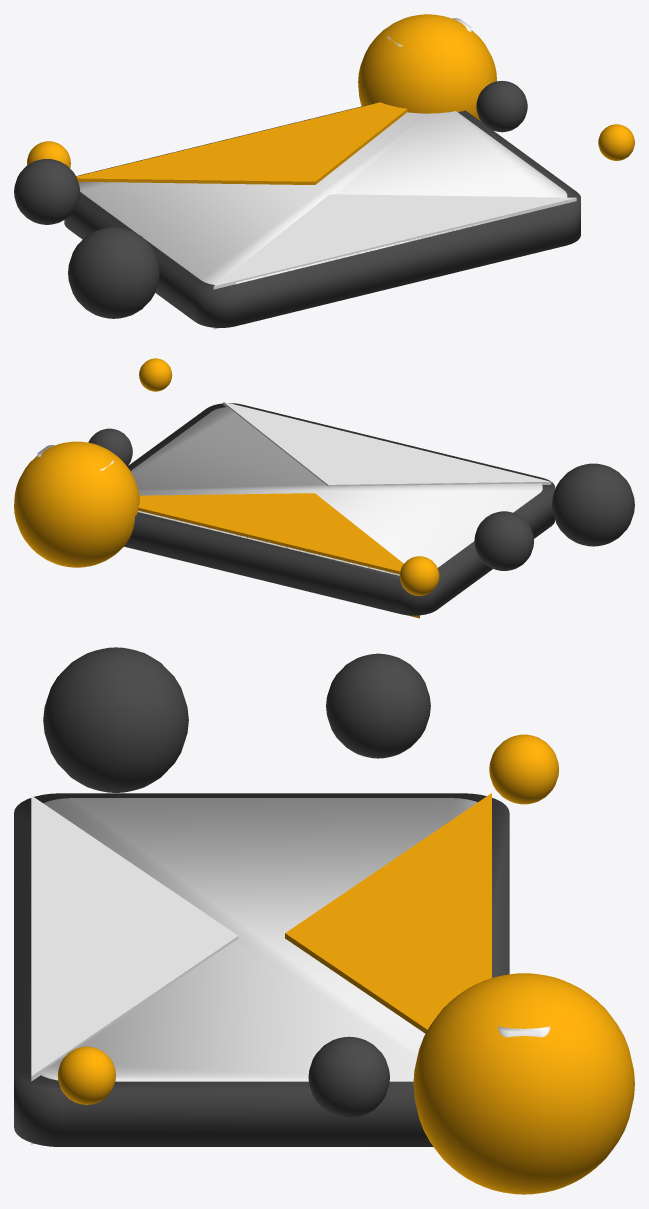
Rendered from email_99.glb.
3 renders of one model, top to bottom at view 1: azimuth 30°, elevation 25°; view 2: azimuth 150°, elevation 25°; view 3: azimuth 270°, elevation 25°, orthographic. The views are drawn at different scales.
Visible parts, largest first — view 1: EnvFace, EnvBack, EnvFold, EnvFlap, EnvBadge, ESph_2, ESph_1, ESph_5, ESph_4, ESph_3; view 2: EnvFace, EnvBack, EnvBadge, EnvFold, EnvFlap, ESph_2, ESph_1, ESph_3, ESph_5, ESph_4; view 3: EnvFace, EnvBadge, EnvBack, EnvFold, EnvFlap, ESph_2, ESph_1, ESph_5, ESph_3, ESph_4.
Part boxes in pixels (x1,y1,x2,y2): EnvFace: (78, 111, 567, 284); EnvBack: (64, 103, 580, 327); EnvFold: (213, 194, 576, 329); EnvFlap: (76, 102, 407, 184); EnvBadge: (358, 14, 496, 121); ESph_2: (68, 227, 159, 318); ESph_1: (14, 159, 79, 224); ESph_5: (476, 81, 527, 132); ESph_4: (598, 124, 634, 160); ESph_3: (27, 141, 70, 167); EnvFace: (130, 407, 542, 575); EnvBack: (124, 403, 555, 615); EnvBadge: (14, 441, 139, 567); EnvFold: (223, 402, 551, 486); EnvFlap: (138, 493, 419, 618); ESph_2: (552, 463, 634, 546); ESph_1: (474, 511, 533, 570); ESph_3: (399, 556, 439, 595); ESph_5: (88, 428, 132, 466); ESph_4: (139, 358, 172, 391); EnvFace: (41, 798, 477, 1081); EnvBadge: (413, 973, 634, 1194); EnvBack: (14, 793, 509, 1146); EnvFold: (31, 795, 238, 1144); EnvFlap: (285, 793, 491, 1033); ESph_2: (43, 647, 188, 792); ESph_1: (326, 653, 430, 758); ESph_5: (308, 1036, 389, 1118); ESph_3: (489, 734, 558, 804); ESph_4: (57, 1046, 115, 1104).
Size of the model in its own units: 3.45 by 0.76 by 2.13.
